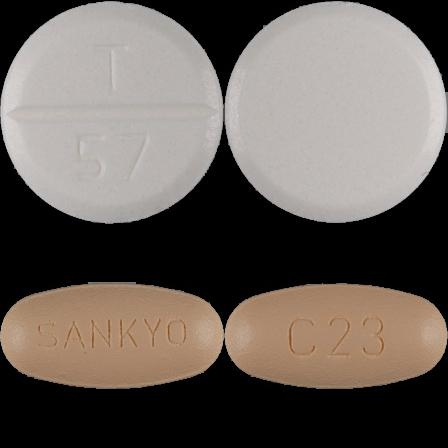54868-5071: (0, 0, 224, 224)
